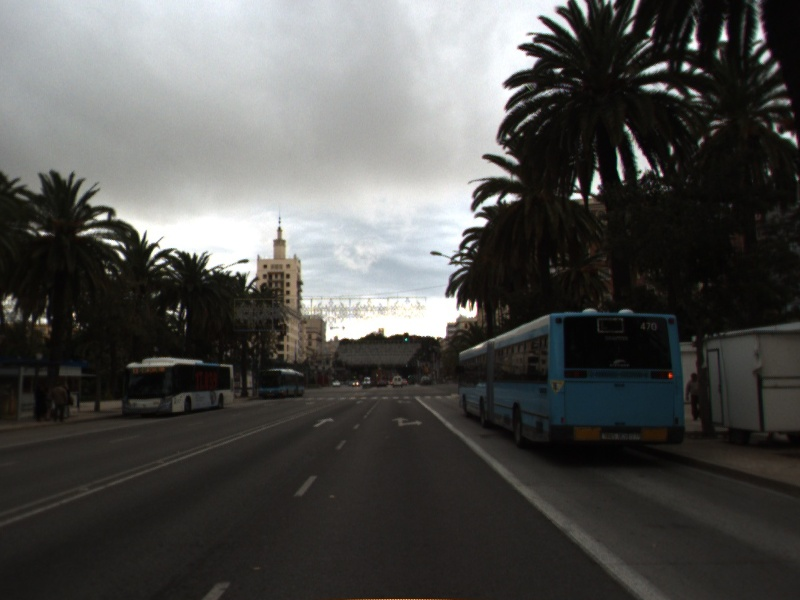STRAIGHT: (311, 416, 336, 429)
STRAIGHT_RIGHT: (390, 415, 424, 428)
